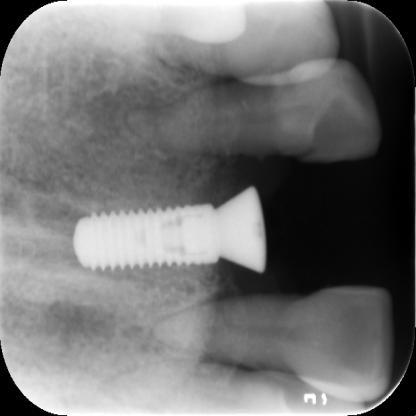ITI: (71, 206, 222, 269)
